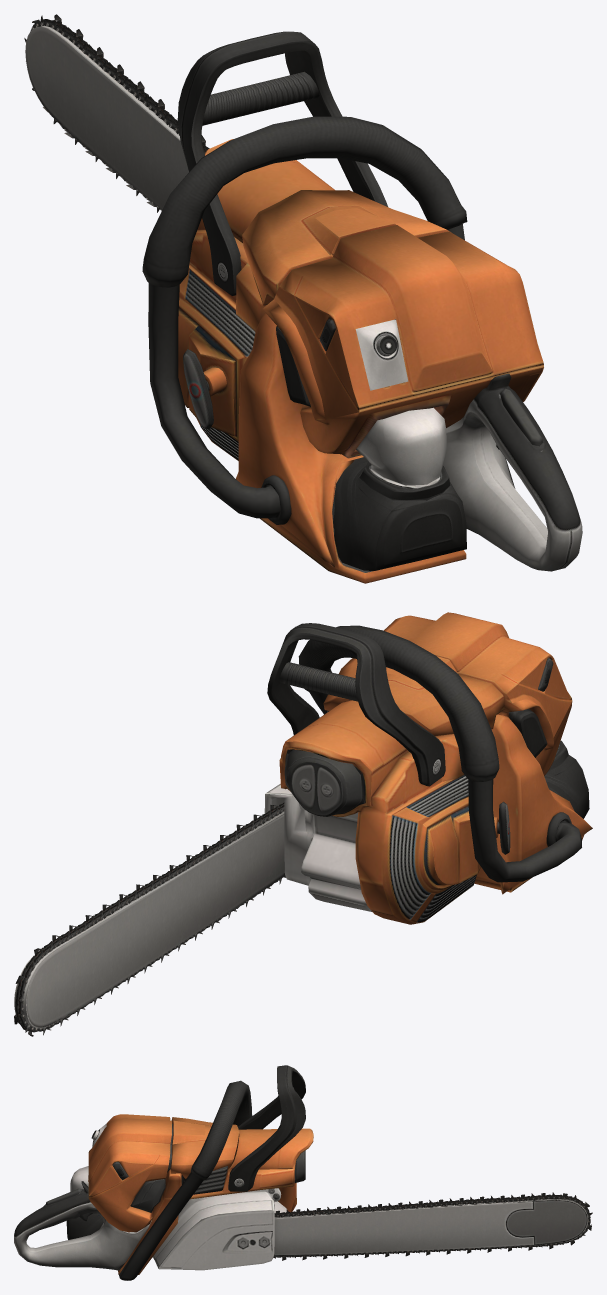
The model's file is animated_chainsaw_low-poly_free-download.glb.
3 renders of one model, top to bottom at view 1: azimuth 30°, elevation 25°; view 2: azimuth 150°, elevation 25°; view 3: azimuth 270°, elevation 25°, orthographic. The views are drawn at different scales.
Visible parts, largest first — view 1: chainsaw, Cube.002; view 2: chainsaw, Cube.002; view 3: chainsaw, Cube.002.
Boxes of the visible parts, x1,y1,x2,y2 form: chainsaw: (25,25,582,583); Cube.002: (24,14,209,212); chainsaw: (14,612,592,1028); Cube.002: (14,802,285,1036); chainsaw: (14,1065,588,1280); Cube.002: (273,1192,592,1260).
Size of the model in its own units: 2.58 by 3.16 by 9.
Materials: 4 (4 with a texture image).
